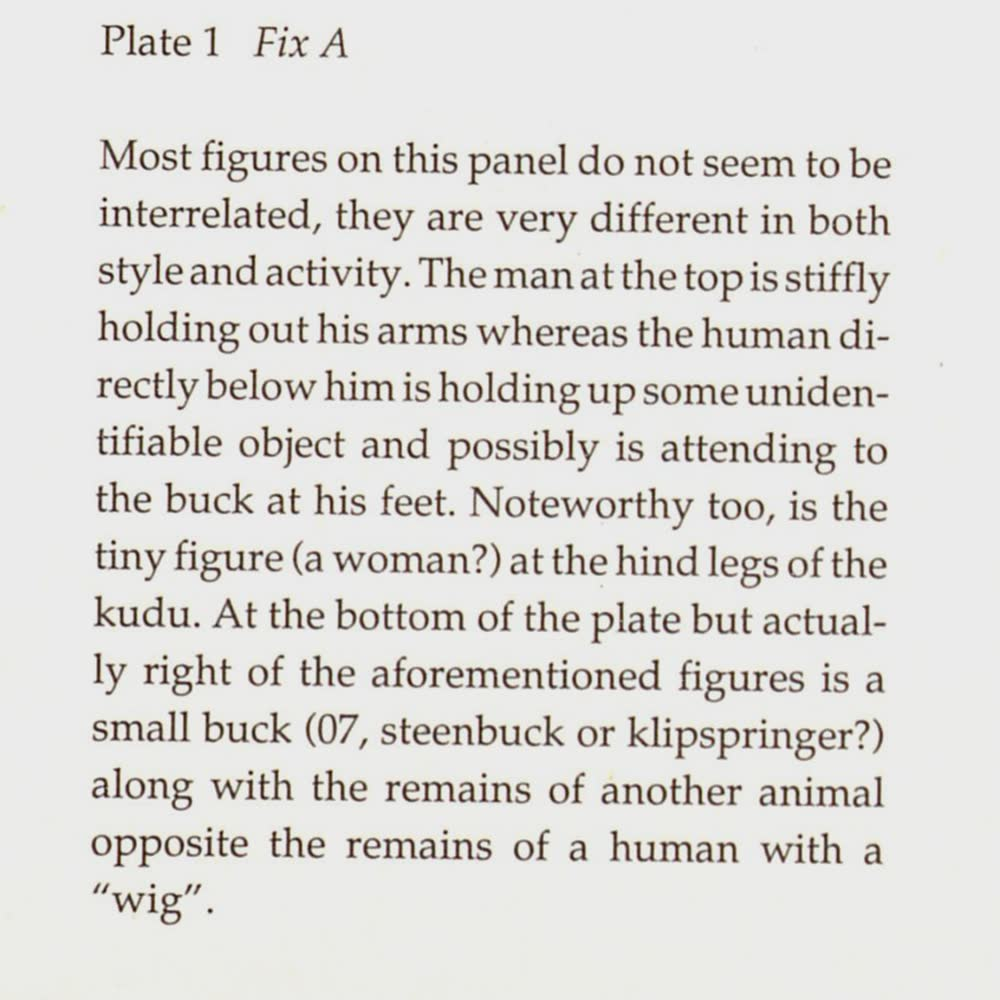text: (84, 12, 899, 930)
